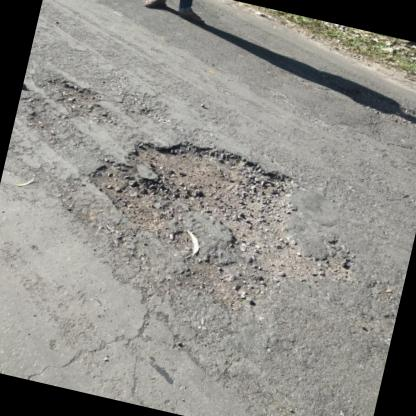pothole: (65, 116, 378, 336), (38, 72, 106, 122)
